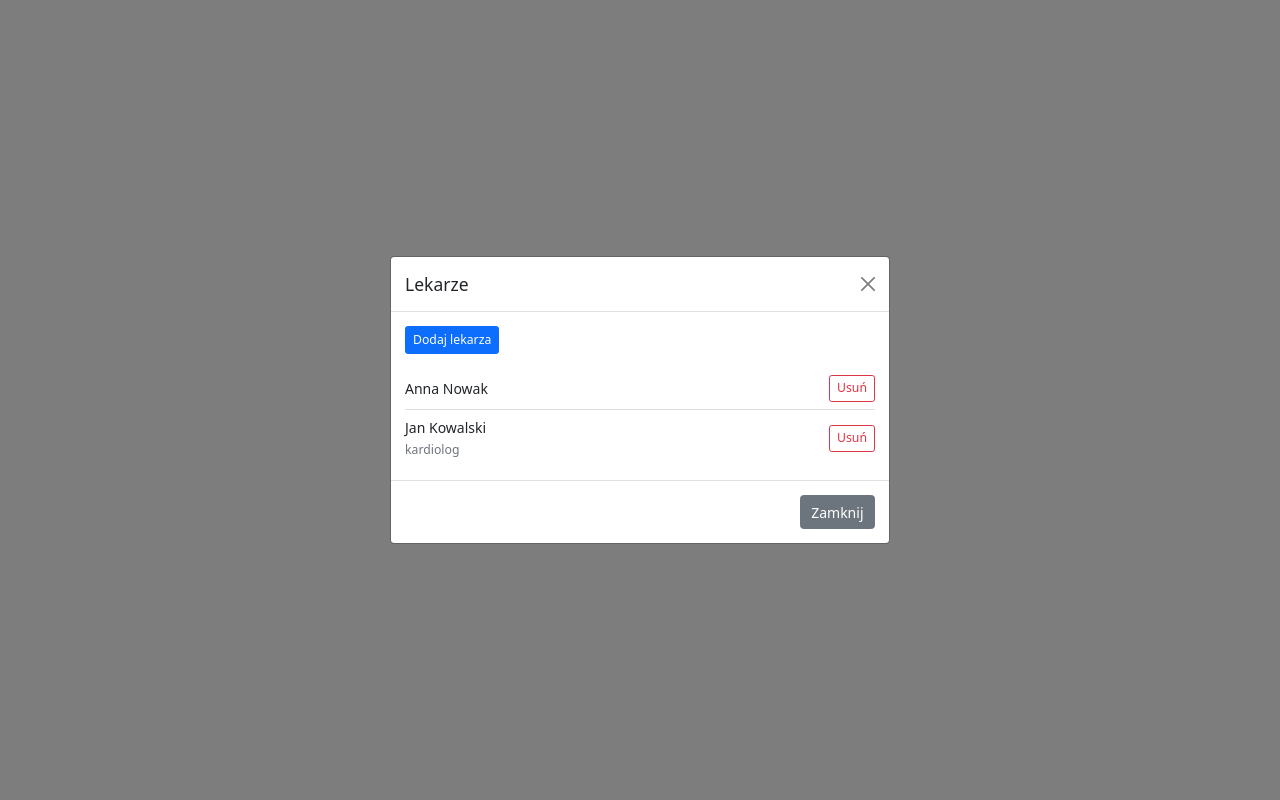
Test: DoctorsDialog › adds a doctor with a specialization and blocks a name that already exists
The image size is (1280, 800).
Click the button "Dodaj lekarza" at (452, 340), box left=405, top=326, right=499, bottom=354
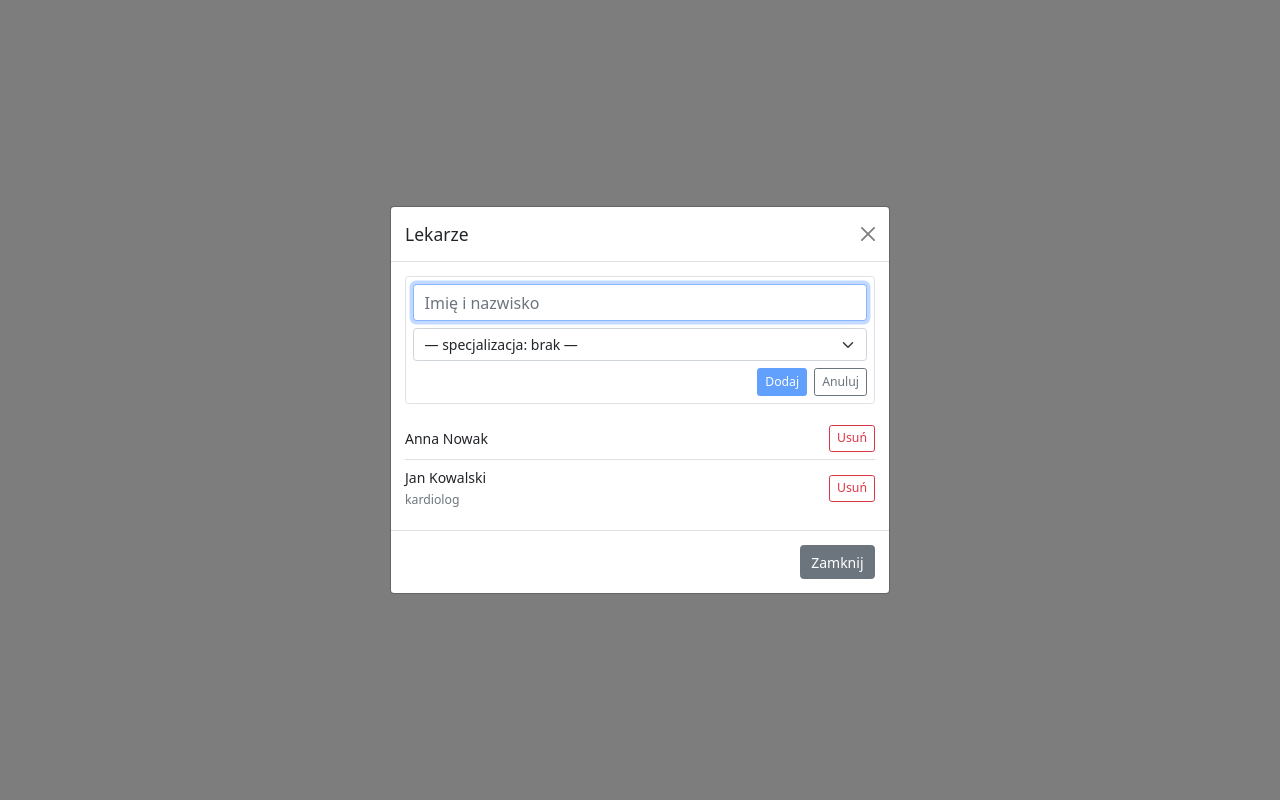
Type " anna nowak " into the field with placeholder "Imię i nazwisko" at (640, 303), box left=413, top=284, right=867, bottom=321
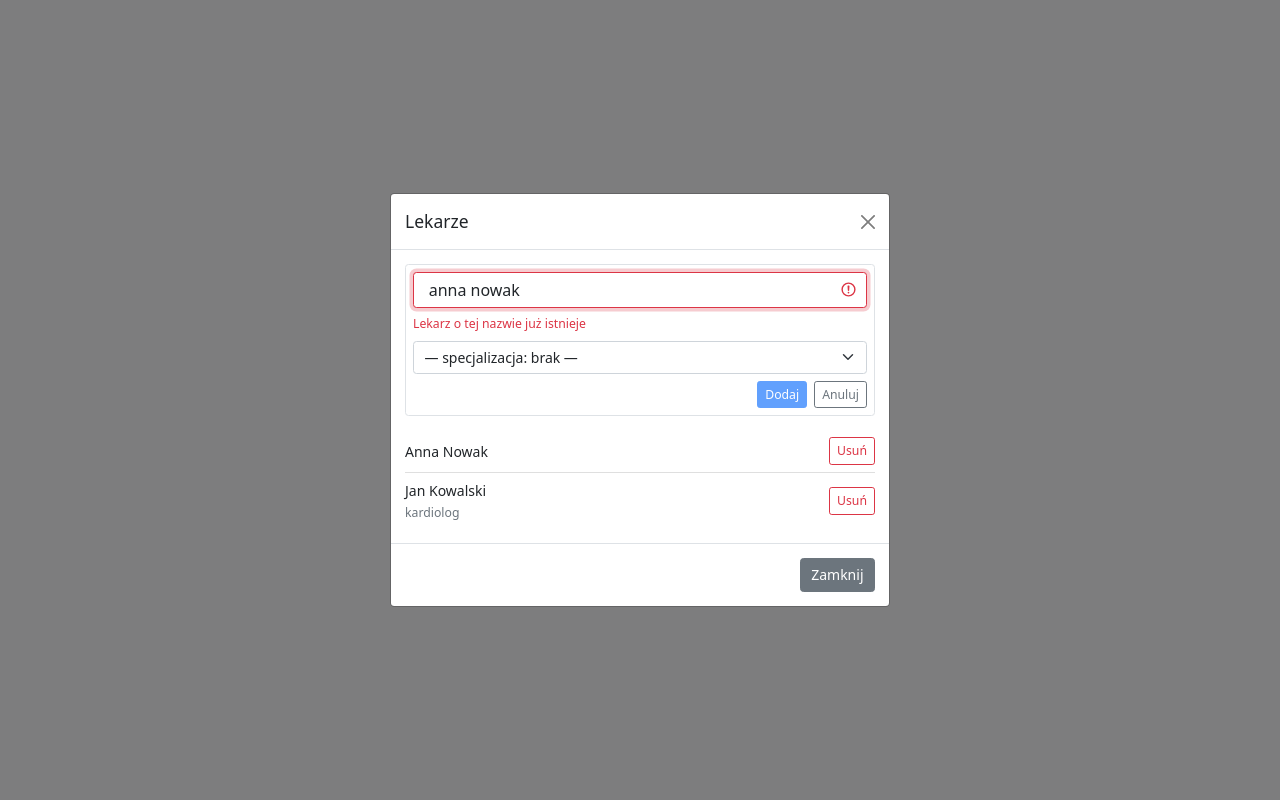
Expected: the button "Dodaj" is disabled, left=757, top=381, right=807, bottom=408
Result: the text "Lekarz o tej nazwie już istnieje" is shown at left=413, top=315, right=586, bottom=332
Replace the text in the field with placeholder "Imię i nazwisko" with "Ewa Zając" at (640, 290), box left=413, top=272, right=867, bottom=308
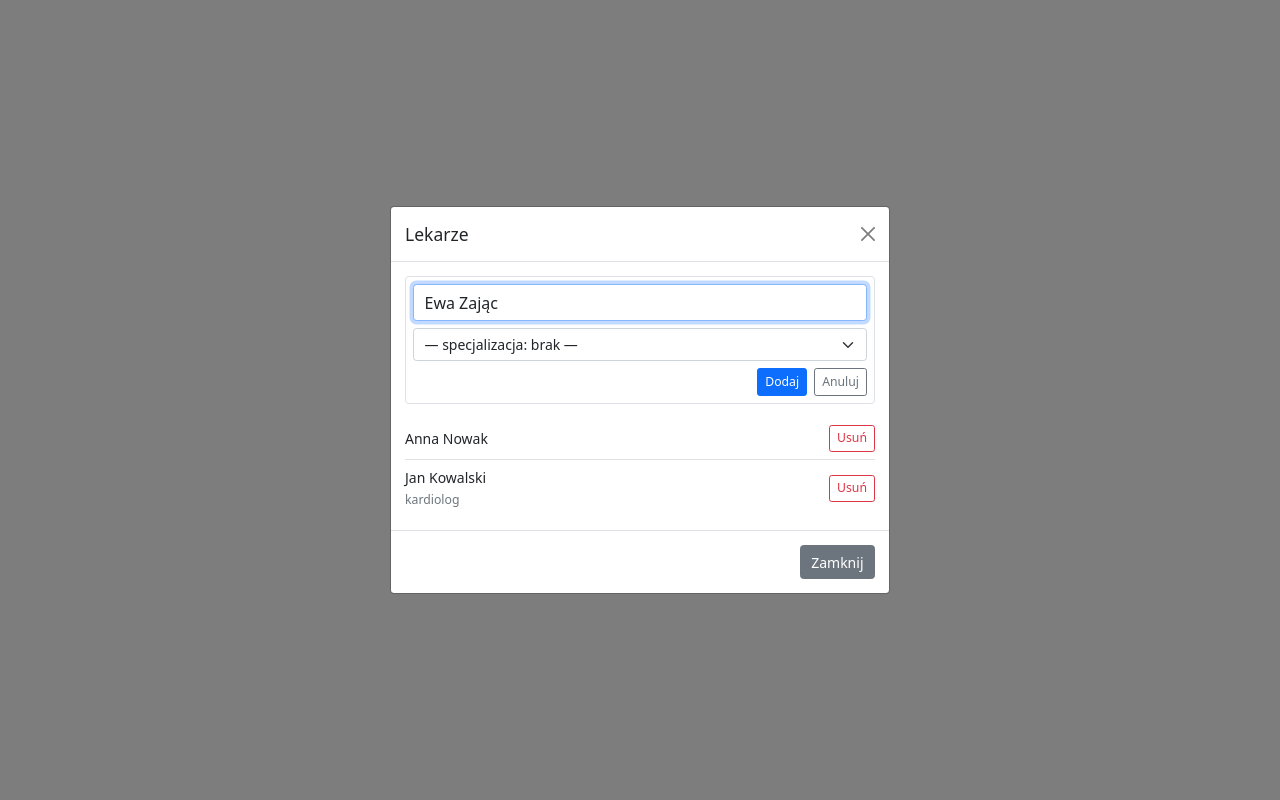
Select "okulista" in the dropdown at (640, 345), box left=413, top=328, right=867, bottom=361
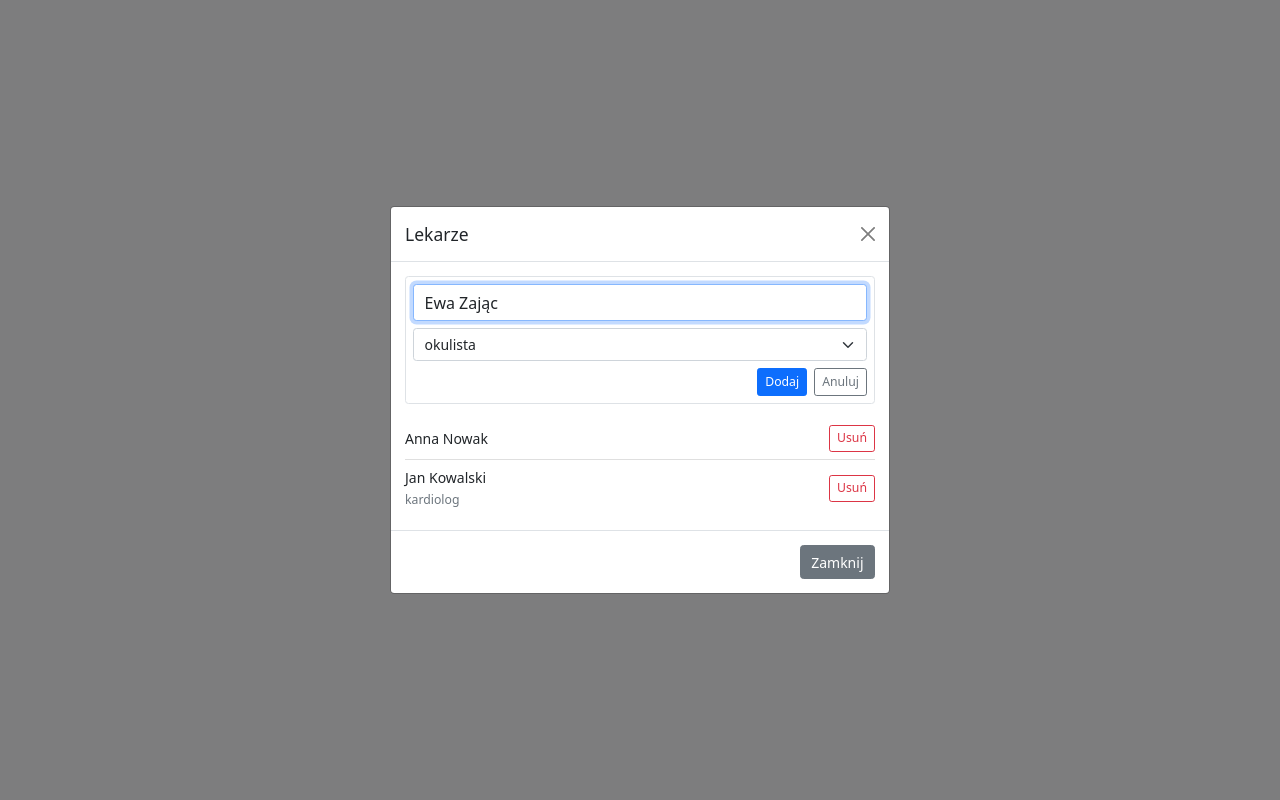
Click the button "Dodaj" at (782, 382), box left=757, top=368, right=807, bottom=396
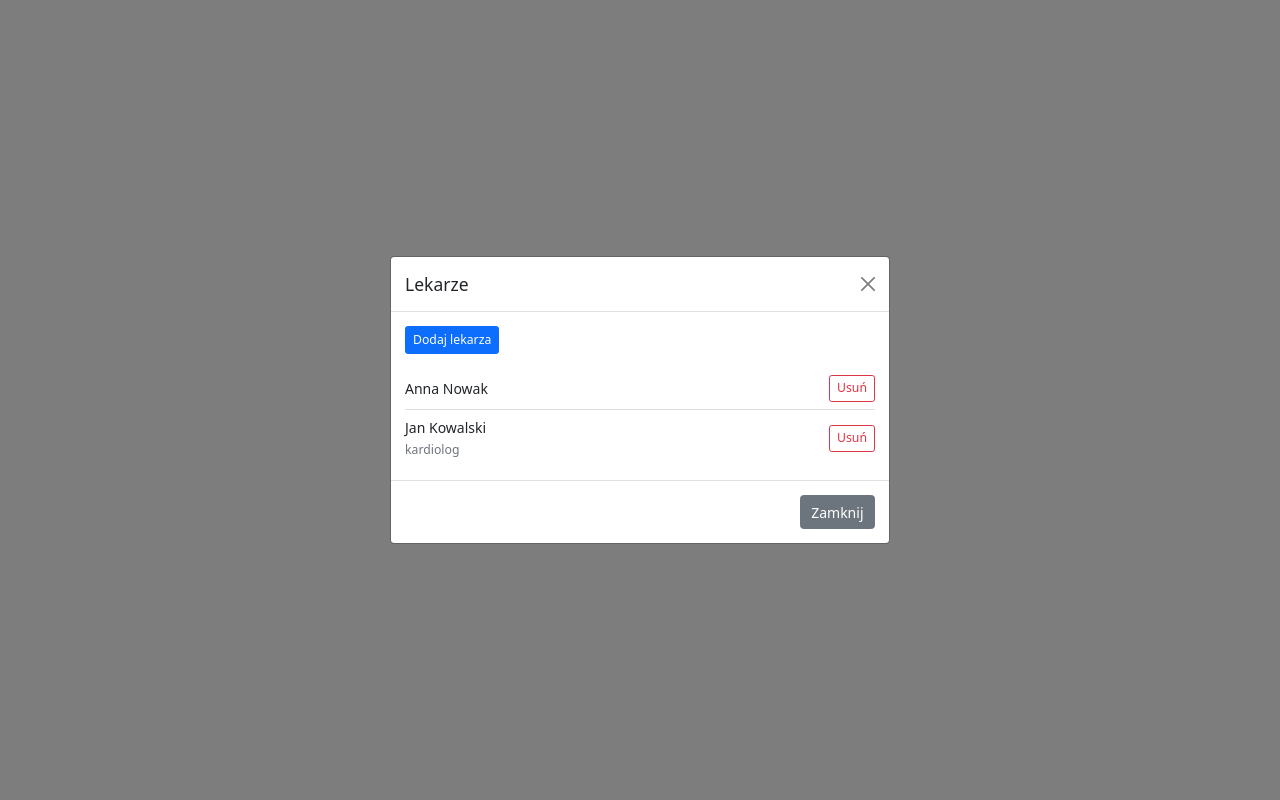
Result: the button "Dodaj lekarza" is shown at left=405, top=326, right=499, bottom=354
